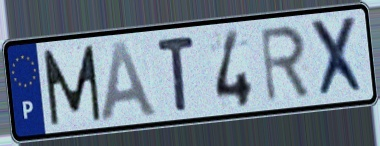4: (212, 26, 255, 110)
A: (99, 40, 162, 125)
M: (40, 42, 104, 129)
R: (257, 23, 313, 105)
T: (154, 33, 198, 114)
X: (306, 14, 369, 101)
